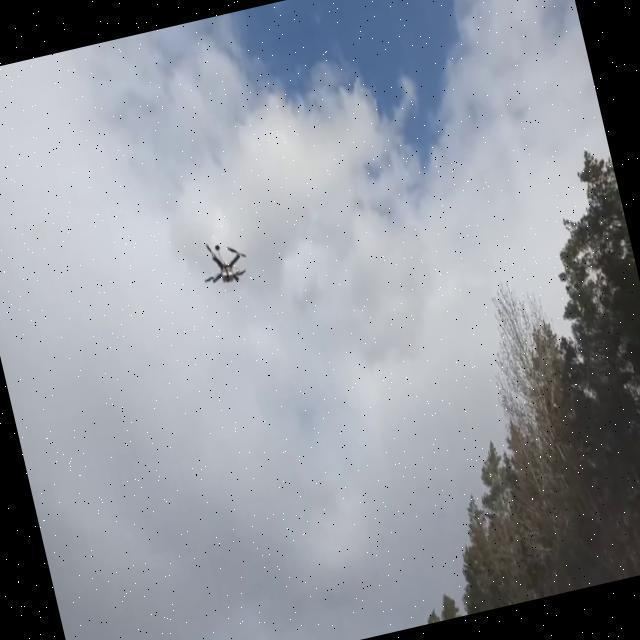Drons: (191, 228, 253, 298)
